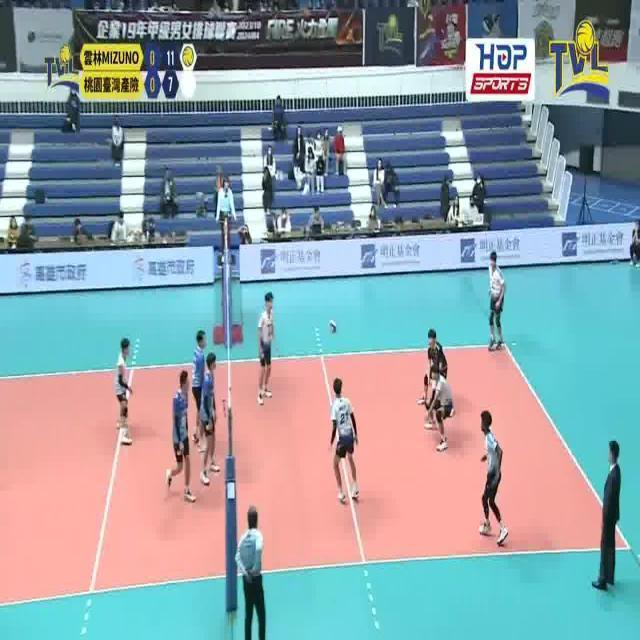volleyball: (327, 320, 338, 336)
